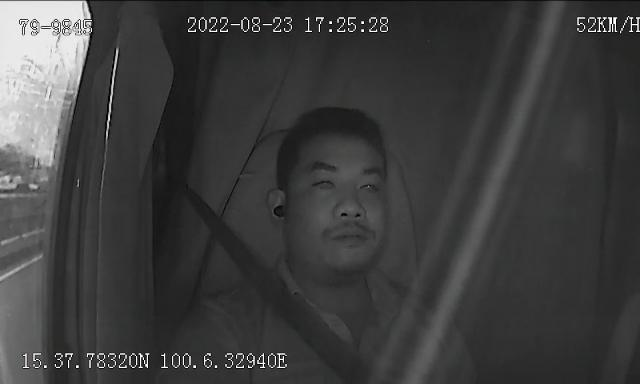SafeDriving: (353, 168, 388, 199)
Seatbelt: (183, 182, 375, 384)
